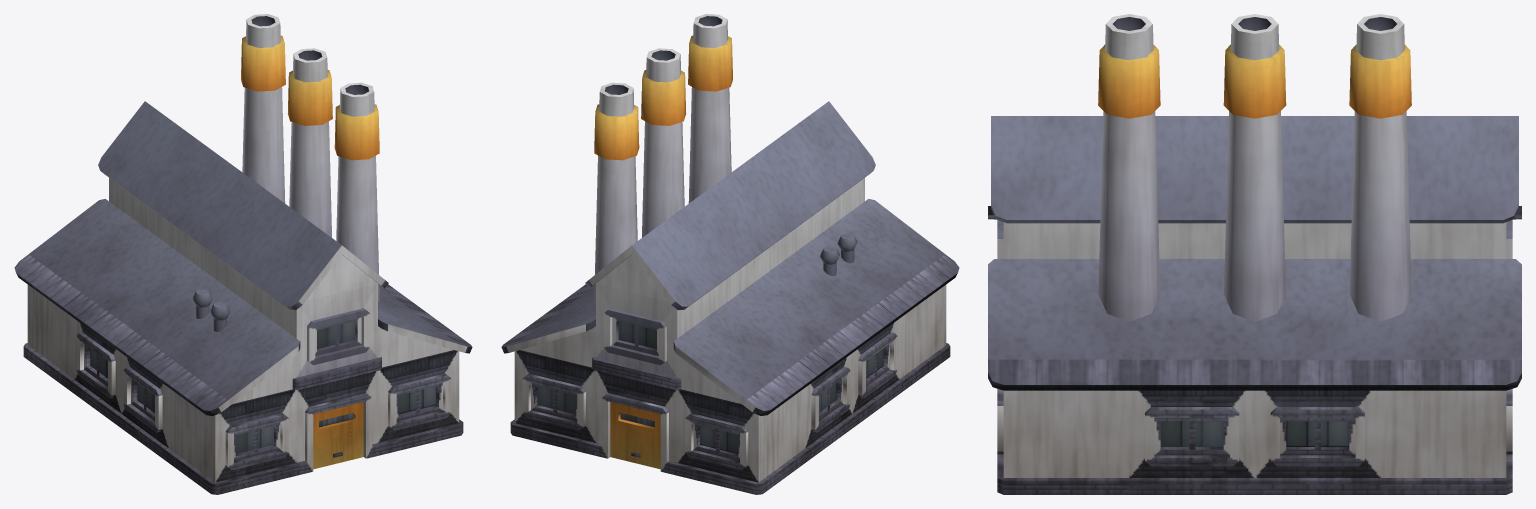
The model's file is building-m-white.glb.
3 views of the same model, side by side, from view 1: azimuth 30°, elevation 25°; view 2: azimuth 150°, elevation 25°; view 3: azimuth 270°, elevation 25° (orthographic). The views are drawn at different scales.
Visible parts, largest first — view 1: building-m; view 2: building-m; view 3: building-m.
Part boxes in pixels (left/top/right/bottom): building-m: left=14, top=14, right=472, bottom=494; building-m: left=501, top=14, right=959, bottom=494; building-m: left=988, top=14, right=1521, bottom=494.
Size of the model in its own units: 1.32 by 1.52 by 1.7.
Materials: 1 (1 with a texture image).
